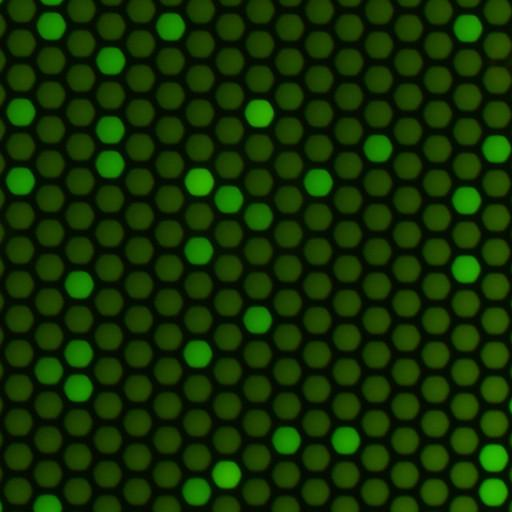Negative: (269, 464, 301, 496), (121, 172, 153, 203), (211, 292, 242, 324), (122, 69, 153, 100), (179, 448, 210, 479), (390, 122, 421, 153), (62, 0, 93, 30), (181, 207, 212, 237), (2, 343, 32, 374), (2, 412, 32, 443), (359, 449, 389, 480), (477, 382, 508, 412), (419, 208, 450, 238), (3, 171, 34, 201), (151, 258, 182, 288), (180, 275, 210, 306), (448, 363, 479, 393), (420, 37, 451, 67), (449, 260, 479, 291), (449, 295, 479, 326), (418, 414, 448, 445), (3, 0, 33, 30), (60, 413, 90, 443), (1, 482, 31, 512), (60, 482, 90, 512), (63, 172, 93, 202), (64, 137, 94, 167), (93, 86, 123, 116), (122, 137, 152, 167), (61, 377, 91, 407), (91, 465, 121, 495), (90, 430, 120, 460), (91, 292, 121, 322), (151, 328, 181, 358), (448, 471, 478, 501), (448, 433, 478, 463), (450, 88, 480, 118), (242, 1, 272, 31), (182, 69, 212, 99), (212, 53, 242, 83), (419, 312, 449, 342), (332, 54, 362, 84), (272, 87, 302, 117), (210, 396, 240, 426), (331, 87, 361, 117), (331, 121, 361, 151), (330, 191, 360, 221), (360, 209, 390, 239), (390, 226, 420, 256), (270, 260, 300, 290), (300, 345, 330, 375), (329, 431, 359, 461), (359, 381, 389, 411), (420, 346, 449, 377), (479, 175, 510, 204), (92, 120, 123, 149), (179, 483, 210, 512), (209, 466, 240, 495), (212, 18, 243, 47), (301, 36, 332, 65), (240, 311, 271, 340), (270, 225, 301, 254), (240, 242, 270, 271), (4, 35, 34, 64), (478, 451, 508, 480), (448, 330, 478, 359), (420, 243, 449, 273), (64, 35, 94, 64), (34, 119, 63, 149), (3, 137, 33, 166), (33, 188, 62, 218), (32, 224, 62, 253), (2, 275, 32, 304), (32, 360, 61, 390), (63, 103, 93, 132), (63, 69, 93, 98), (124, 34, 153, 64), (153, 17, 182, 47), (153, 86, 182, 116), (93, 154, 122, 184), (92, 190, 122, 219), (92, 258, 121, 288), (61, 344, 91, 373), (152, 190, 182, 219), (152, 224, 181, 254), (181, 242, 211, 271), (150, 396, 180, 425), (151, 430, 180, 460), (239, 448, 269, 477), (330, 466, 359, 496), (418, 483, 448, 512), (418, 451, 448, 480), (389, 467, 418, 497), (478, 415, 508, 444), (448, 398, 478, 427), (479, 312, 508, 342), (480, 244, 509, 274), (479, 210, 509, 239), (480, 72, 509, 102), (450, 21, 480, 50), (451, 58, 481, 87), (183, 1, 212, 31), (391, 20, 421, 49), (420, 107, 450, 136), (450, 192, 479, 222), (419, 278, 449, 307), (242, 70, 272, 99), (272, 53, 302, 82), (361, 36, 391, 65), (301, 71, 331, 100), (242, 104, 271, 134), (211, 155, 241, 184), (211, 225, 241, 254), (180, 345, 210, 374), (269, 431, 299, 460), (241, 276, 270, 306), (301, 104, 330, 134), (361, 139, 390, 169), (330, 226, 360, 255), (330, 294, 359, 324), (270, 362, 299, 392), (329, 398, 359, 427), (300, 449, 330, 478), (388, 398, 418, 427), (419, 382, 448, 412), (390, 261, 420, 290), (358, 484, 389, 512), (477, 484, 508, 512), (360, 106, 391, 134), (94, 18, 123, 47), (34, 52, 63, 81), (33, 258, 62, 287), (3, 310, 32, 339), (2, 447, 31, 476), (32, 396, 61, 425), (153, 52, 182, 81), (92, 224, 121, 253), (121, 241, 150, 270), (62, 275, 91, 304), (62, 310, 91, 339), (61, 447, 90, 476), (121, 483, 150, 512), (151, 466, 180, 495), (121, 448, 150, 477), (91, 396, 120, 425), (121, 379, 150, 408), (121, 310, 150, 339), (122, 276, 151, 305), (153, 121, 182, 150), (152, 293, 181, 322), (182, 310, 211, 339), (299, 483, 328, 512), (479, 278, 508, 307), (479, 107, 508, 136), (479, 38, 508, 67), (420, 4, 449, 33), (450, 158, 479, 187), (272, 19, 301, 48), (302, 2, 331, 31), (361, 2, 390, 31), (421, 72, 450, 101), (213, 87, 242, 116), (391, 89, 420, 118), (212, 122, 241, 151), (181, 379, 210, 408), (210, 363, 239, 392), (241, 414, 270, 443), (240, 379, 269, 408), (420, 175, 449, 204), (391, 157, 420, 186), (361, 175, 390, 204), (331, 157, 360, 186), (271, 157, 300, 186), (301, 174, 330, 203), (331, 260, 360, 289), (271, 294, 300, 323), (300, 277, 329, 306), (301, 243, 330, 272), (360, 277, 389, 306), (300, 311, 329, 340), (270, 397, 299, 426), (389, 363, 418, 392), (331, 363, 360, 392), (331, 329, 360, 358), (390, 330, 419, 359), (33, 17, 63, 45), (3, 206, 33, 234), (31, 465, 61, 493), (123, 105, 153, 133), (121, 345, 151, 373), (152, 156, 182, 184), (182, 174, 212, 202), (150, 362, 180, 390), (450, 124, 480, 152), (331, 20, 361, 48), (390, 55, 420, 83), (241, 346, 269, 376), (390, 193, 420, 221), (301, 140, 331, 168), (300, 415, 330, 443), (389, 295, 419, 323), (33, 155, 62, 183), (63, 241, 92, 269), (94, 52, 122, 81), (121, 414, 150, 442), (480, 141, 509, 169), (183, 104, 211, 133), (212, 190, 241, 218), (211, 260, 240, 288), (241, 174, 270, 202), (272, 123, 301, 151), (301, 209, 330, 237), (360, 347, 389, 375), (301, 380, 328, 410), (34, 86, 62, 114), (360, 313, 388, 341), (450, 0, 481, 16), (391, 0, 421, 16), (273, 0, 301, 14), (94, 0, 124, 13), (153, 0, 183, 13), (212, 0, 242, 13), (32, 499, 59, 512), (35, 0, 64, 12), (271, 500, 299, 512), (331, 500, 358, 512), (151, 501, 180, 512), (390, 501, 418, 512), (451, 501, 477, 512)
Positive: (180, 138, 212, 168), (210, 431, 241, 461), (3, 102, 33, 132), (183, 36, 213, 66), (242, 36, 272, 66), (420, 141, 450, 171), (241, 139, 271, 169), (360, 415, 390, 445), (270, 191, 301, 220), (479, 5, 510, 34), (270, 327, 299, 358), (1, 378, 31, 407), (31, 430, 61, 459), (123, 1, 153, 30), (181, 414, 211, 443), (240, 483, 270, 512), (450, 227, 479, 257), (361, 71, 391, 100), (210, 328, 240, 357), (360, 243, 390, 272), (388, 433, 418, 462), (4, 69, 33, 98), (32, 327, 61, 356), (63, 207, 92, 236), (122, 207, 151, 236), (91, 362, 120, 391), (479, 347, 508, 376), (242, 207, 271, 236), (32, 293, 62, 321), (91, 328, 121, 356), (3, 241, 32, 269), (331, 0, 362, 15), (92, 499, 120, 512), (210, 500, 240, 512)
